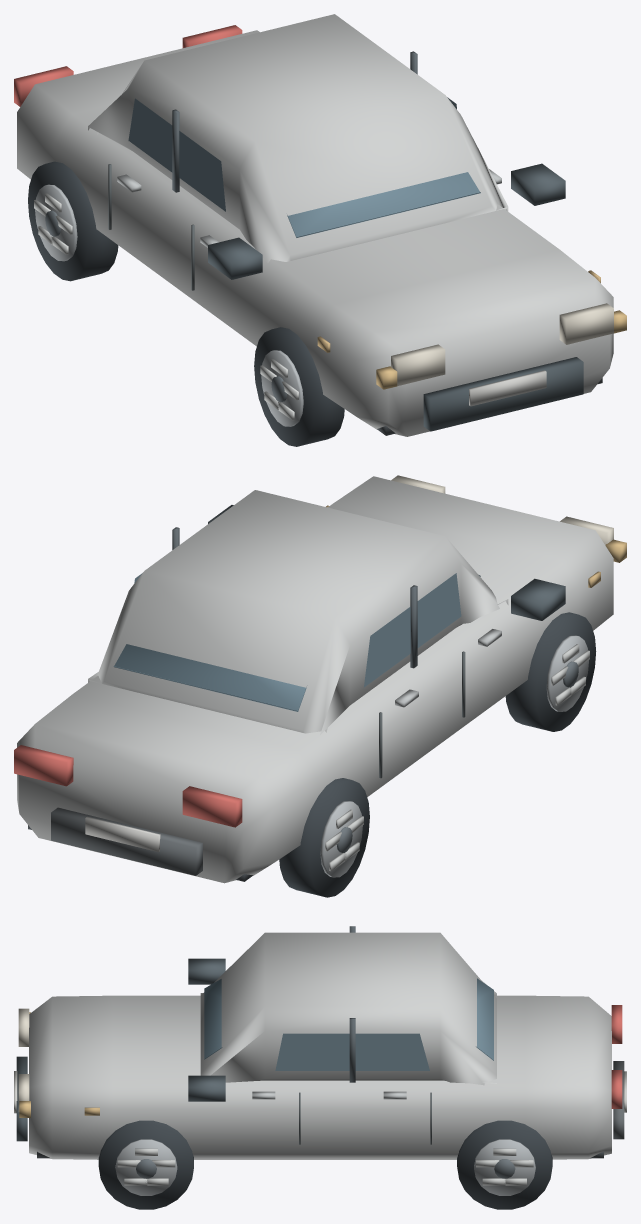
The model's file is sedan.glb.
The picture shows the model from 3 angles, top to bottom: view 1: azimuth 30°, elevation 25°; view 2: azimuth 150°, elevation 25°; view 3: azimuth 270°, elevation 25°; orthographic projection. The views are drawn at different scales.
Parts seen in each view (by area): view 1: paint, trim, glass, wheel_1_L, wheel_0_L, headlights, metal, taillights, indicators; view 2: paint, glass, trim, wheel_0_L, wheel_1_L, taillights, metal, headlights; view 3: paint, glass, wheel_0_R, wheel_1_R, trim, taillights, headlights, metal.
Boxes of the visible parts, bbox=[...] form: paint: bbox=[17, 14, 613, 436]; trim: bbox=[108, 51, 602, 435]; glass: bbox=[128, 97, 480, 237]; wheel_1_L: bbox=[254, 327, 344, 446]; wheel_0_L: bbox=[28, 161, 118, 281]; headlights: bbox=[391, 303, 613, 385]; metal: bbox=[117, 169, 546, 406]; taillights: bbox=[14, 25, 242, 106]; indicators: bbox=[317, 270, 626, 389]; paint: bbox=[17, 476, 613, 883]; glass: bbox=[113, 573, 480, 711]; trim: bbox=[28, 505, 565, 881]; wheel_0_L: bbox=[279, 778, 369, 897]; wheel_1_L: bbox=[505, 612, 596, 731]; taillights: bbox=[14, 745, 242, 827]; metal: bbox=[85, 629, 501, 851]; headlights: bbox=[391, 475, 613, 545]; paint: bbox=[29, 932, 611, 1159]; glass: bbox=[204, 978, 493, 1070]; wheel_0_R: bbox=[457, 1120, 552, 1209]; wheel_1_R: bbox=[98, 1120, 193, 1209]; trim: bbox=[16, 926, 624, 1158]; taillights: bbox=[611, 1005, 622, 1108]; headlights: bbox=[18, 1008, 29, 1111]; metal: bbox=[14, 1071, 626, 1113].
Size of the model in its own units: 2.37 by 1.59 by 4.76.
